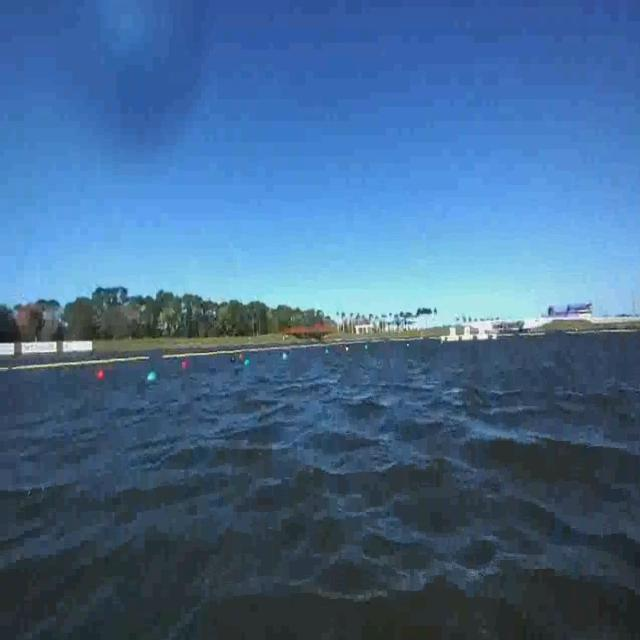green-buoy: (148, 370, 158, 382)
red-buoy: (98, 368, 105, 379)
